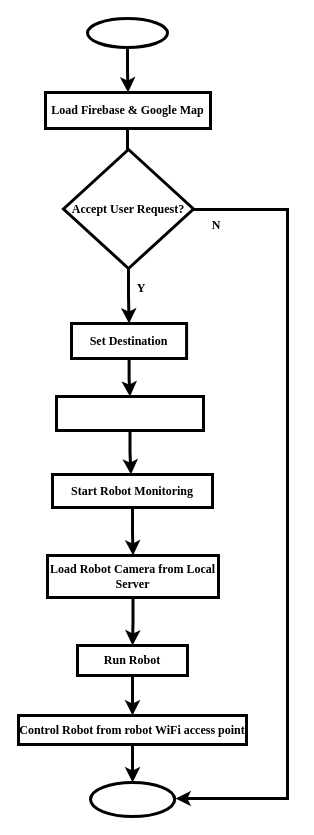
Image size: 314x835. Some labels were removed from this diagram. The centre of each missing label's shape, as x and y in pixels:
Load Destination on Map: the point at 129,413
Start: the point at 127,32
STOP: the point at 132,799
